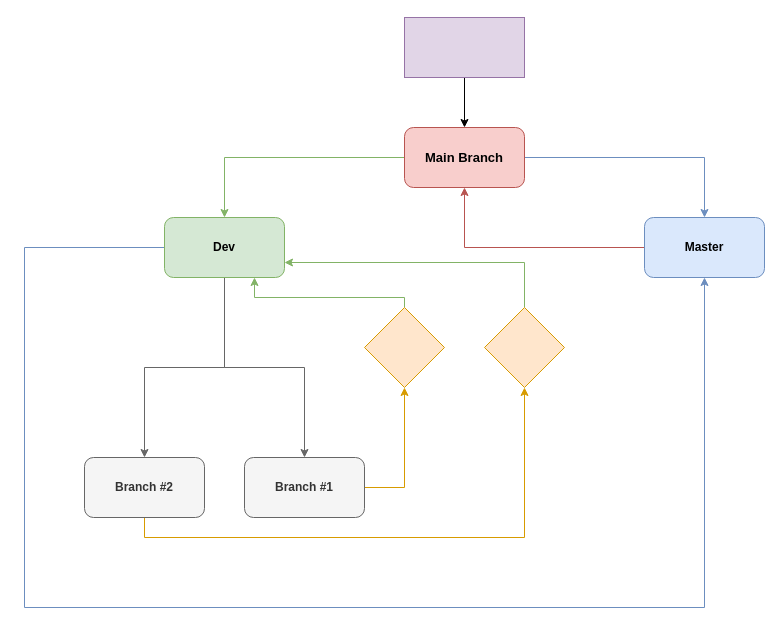
Image size: 782x633. Some labels were removed from this diagram. The centre of each missing label's shape, as x and y in pixels:
"Issue #1" goes at point 404,347.
"Issue #2" goes at point 524,347.
"Repository" goes at point 464,47.
